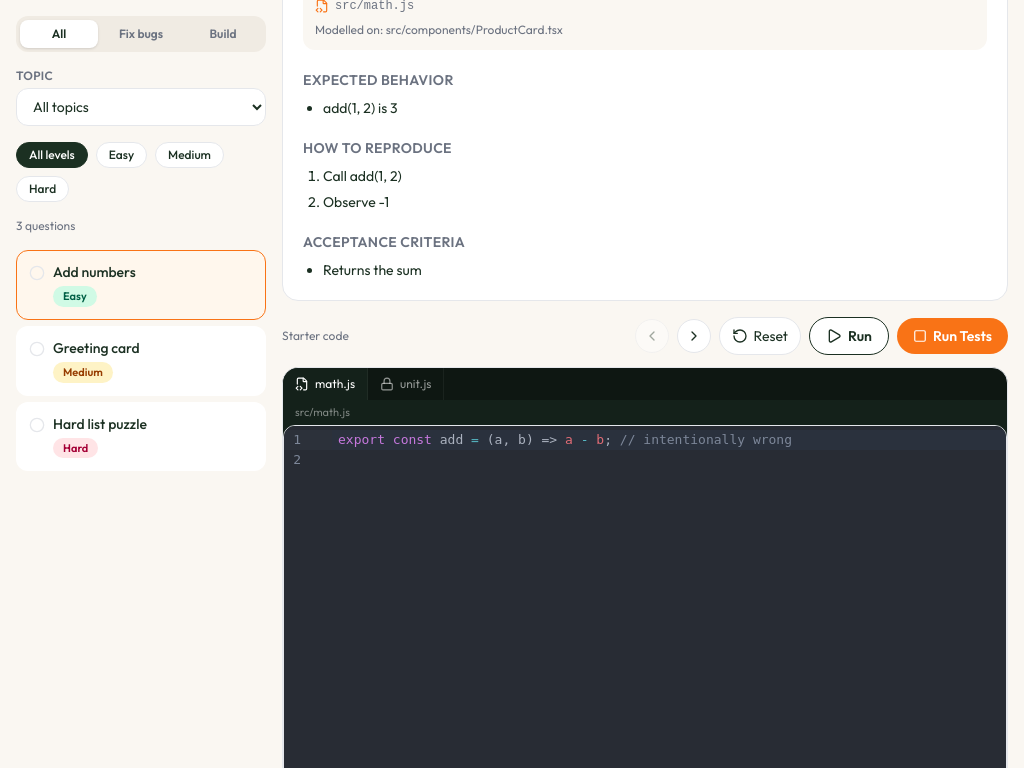
Test case: workspace › lists every file as a tab and marks context files read-only
The image size is (1024, 768).
(page scrolled)
Expected: the tab "math.js" is shown, [283, 368, 368, 400]
Click the tab "unit.js": (406, 384) [368, 368, 444, 400]
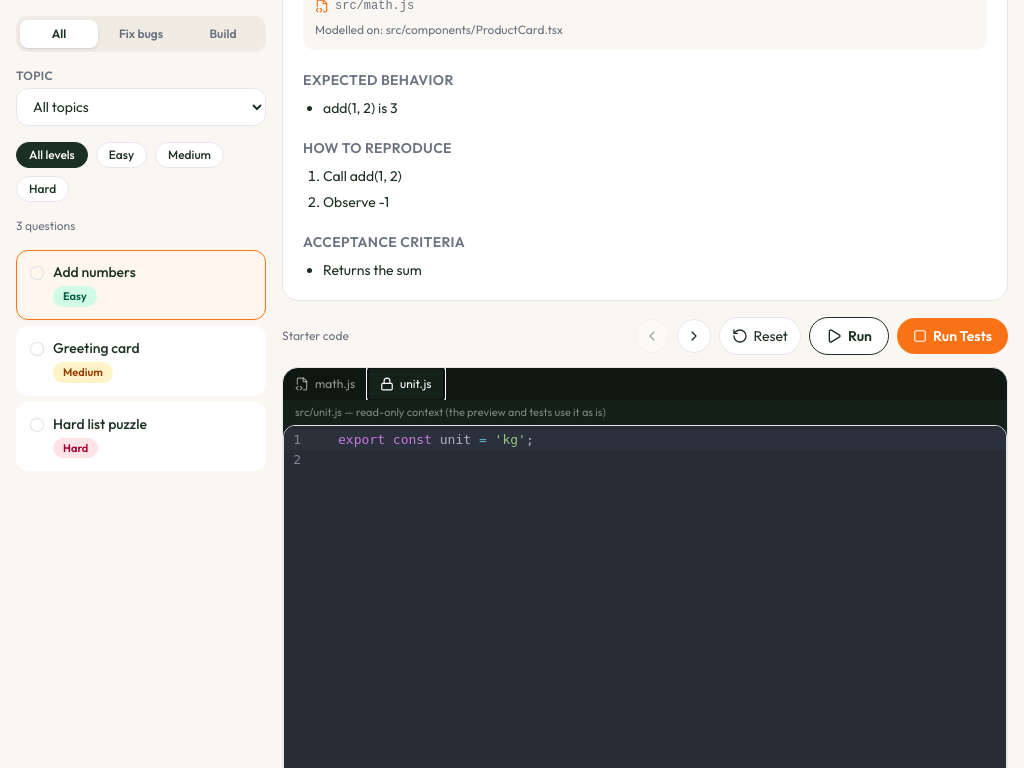
Result: the text "read-only context" is shown at [342, 405, 606, 419]
